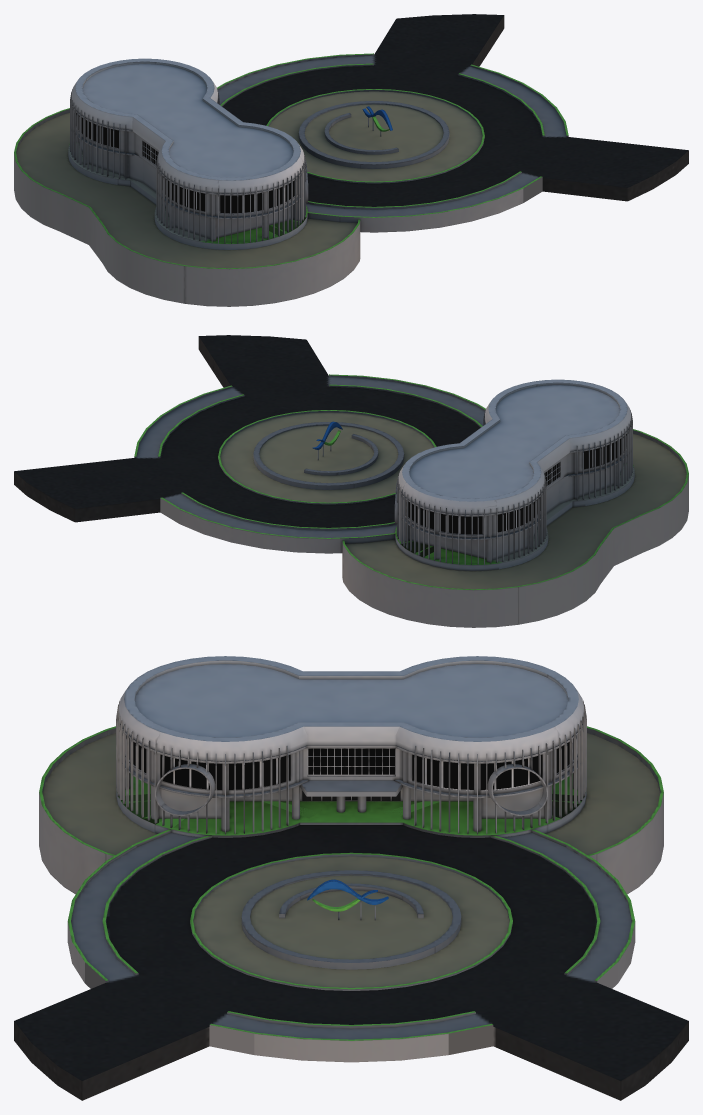
File: padjajaran.glb
3 views of the same model, one above another, from view 1: azimuth 30°, elevation 25°; view 2: azimuth 150°, elevation 25°; view 3: azimuth 270°, elevation 25° (orthographic). The views are drawn at different scales.
Parts seen in each view (by area): view 1: Halaman, Details_1, Base, FirstFloor_1, Cylinder_1, Floor, Cylinder, GlassCircle; view 2: Halaman, Details_1, Base, FirstFloor_1, Cylinder_1, Floor, Cylinder, GlassCircle; view 3: Halaman, Details_1, Base, Cylinder_1, FirstFloor_1, Cylinder, Floor, Cube_2, GlassCircle, Cube_1, FrontGlass.
Part boxes in pixels (x1=…): Halaman: x1=14, y1=14, x2=688, y2=306; Details_1: x1=70, y1=58, x2=308, y2=243; Base: x1=68, y1=142, x2=307, y2=249; FirstFloor_1: x1=79, y1=139, x2=294, y2=238; Cylinder_1: x1=76, y1=113, x2=294, y2=213; Floor: x1=76, y1=127, x2=297, y2=216; Cylinder: x1=74, y1=131, x2=302, y2=219; GlassCircle: x1=78, y1=115, x2=296, y2=214; Halaman: x1=14, y1=335, x2=688, y2=627; Details_1: x1=394, y1=379, x2=632, y2=564; Base: x1=395, y1=463, x2=634, y2=570; FirstFloor_1: x1=408, y1=460, x2=623, y2=559; Cylinder_1: x1=408, y1=434, x2=626, y2=534; Floor: x1=405, y1=449, x2=626, y2=537; Cylinder: x1=400, y1=448, x2=628, y2=540; GlassCircle: x1=406, y1=436, x2=624, y2=534; Halaman: x1=14, y1=726, x2=688, y2=1100; Details_1: x1=116, y1=656, x2=586, y2=834; Base: x1=116, y1=774, x2=586, y2=837; Cylinder_1: x1=126, y1=735, x2=576, y2=789; FirstFloor_1: x1=159, y1=787, x2=543, y2=818; Cylinder: x1=122, y1=756, x2=580, y2=798; Floor: x1=125, y1=748, x2=577, y2=794; Cube_2: x1=308, y1=748, x2=394, y2=774; GlassCircle: x1=125, y1=735, x2=577, y2=790; Cube_1: x1=307, y1=879, x2=388, y2=920; FrontGlass: x1=307, y1=748, x2=395, y2=775.
Size of the model in its own units: 8390 by 1552 by 6433.
Materials: 19 (19 with a texture image).
